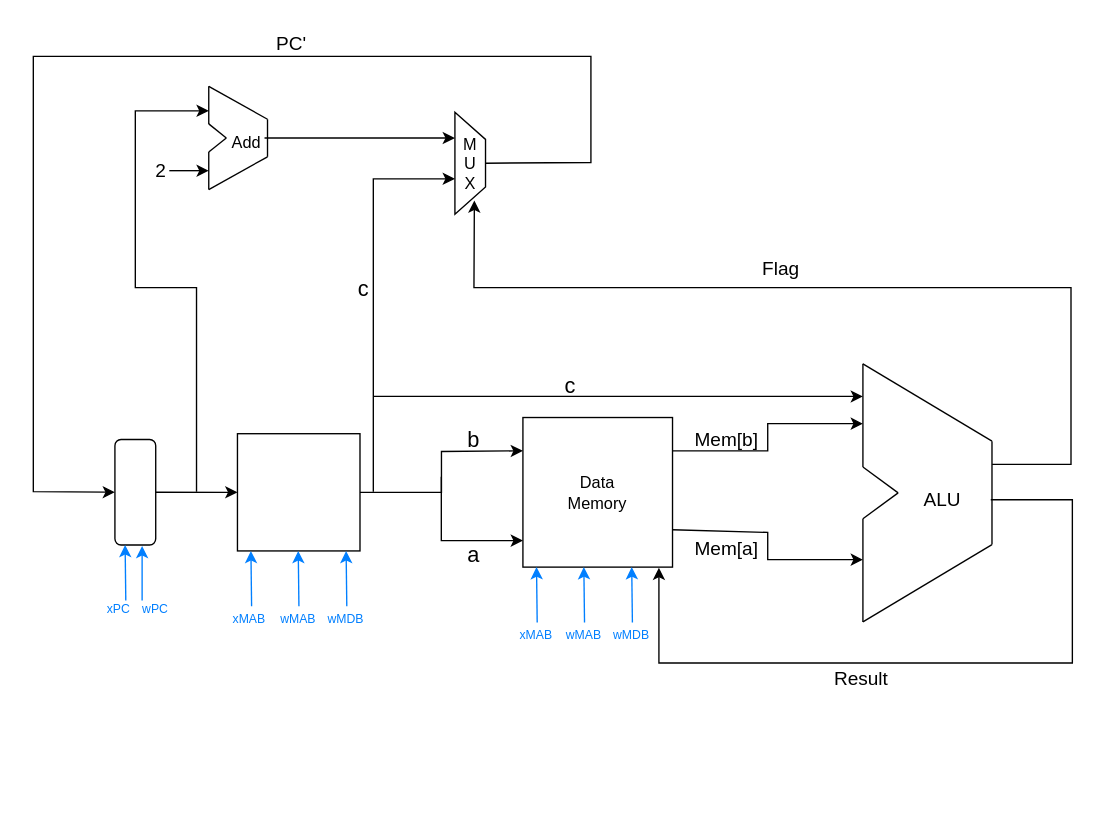
This 1107x840 diagram has some shape labels left out. The shapes that lost their labels are listed below. From the top down, each one's centre as x and y in pixels, then its label:
the point at 135,491: PC
the point at 298,491: Instruction Memory
